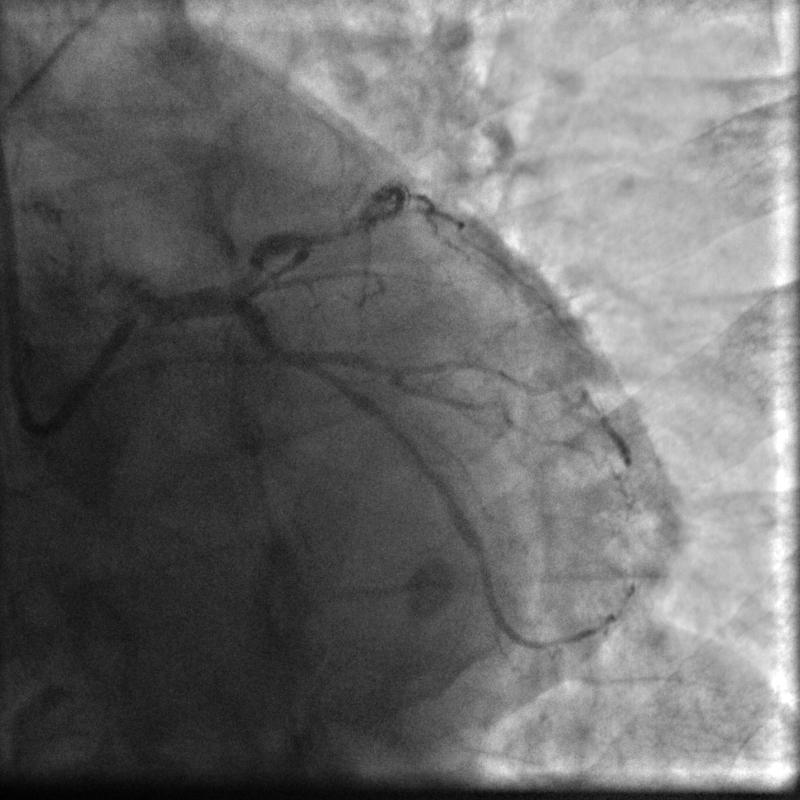Stenosis: (227, 248, 267, 293)
